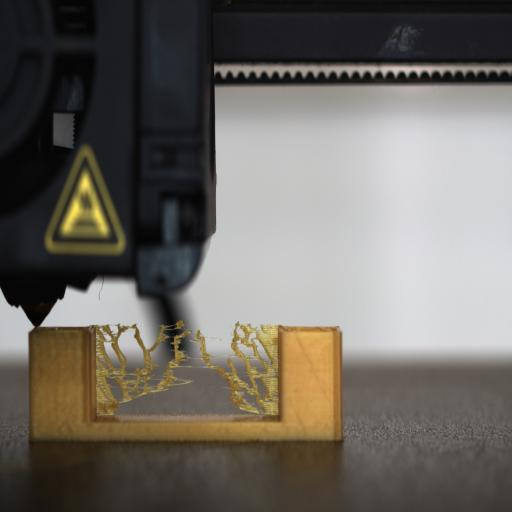stringing: (95, 320, 280, 412)
